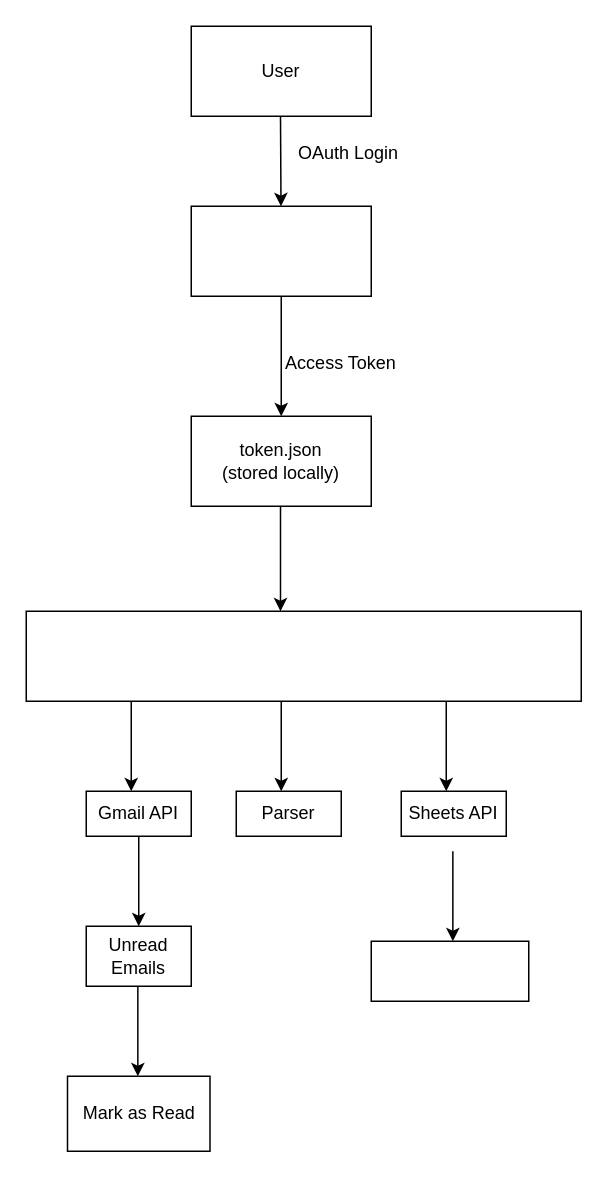
This 608x1178 diagram has some shape labels left out. The box of each missing label's shape, as (x1, y1, x2, y2) in pixels:
Google OAuth: (190, 205, 371, 296)
Google Sheets (Append Rows): (370, 940, 529, 1001)
Python Script (main.py): (25, 610, 581, 701)
